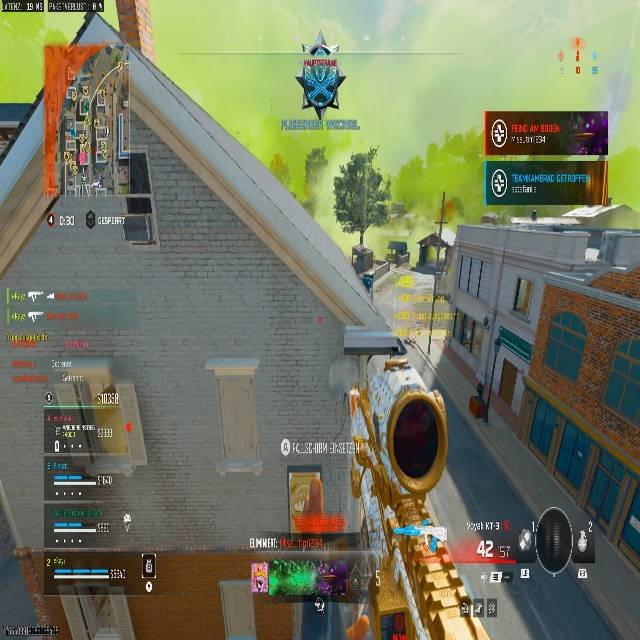player: (330, 150, 391, 241), (294, 42, 345, 119), (360, 271, 373, 293)
